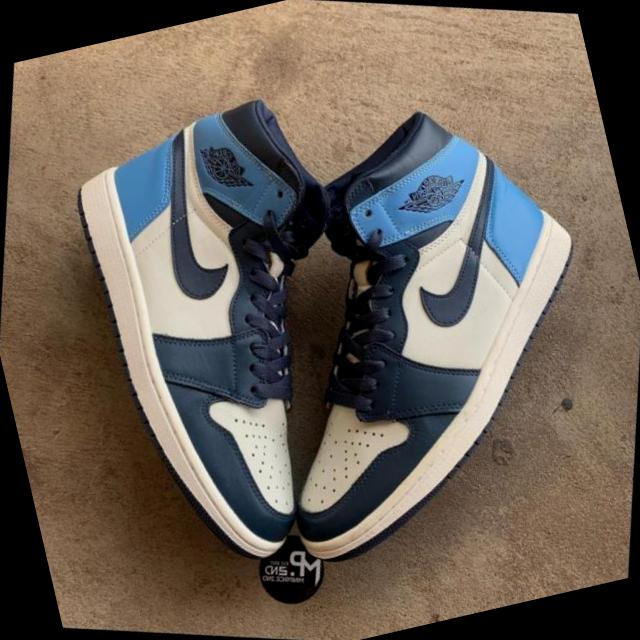nike_original_jordan: (183, 36, 640, 630), (0, 48, 423, 618)
